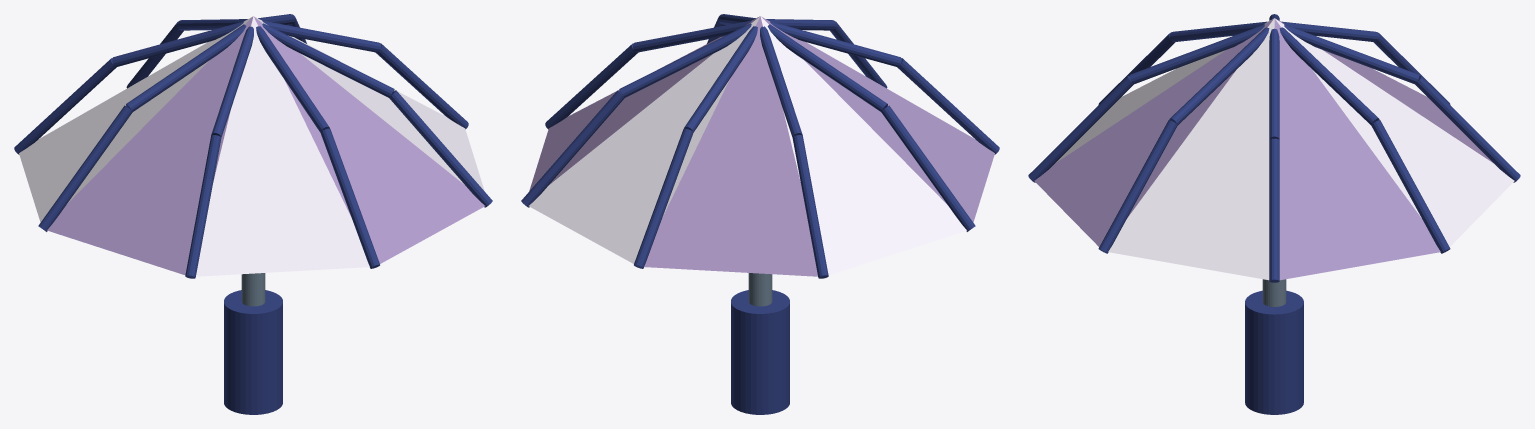
The model's file is foldumbrella.glb.
3 views of the same model, side by side, from view 1: azimuth 30°, elevation 25°; view 2: azimuth 150°, elevation 25°; view 3: azimuth 270°, elevation 25° (orthographic).
Parts seen in each view (by area): view 1: panel2, panel3, panel1, panel4, handle, panel0, rib21, rib41, rib31, rib11, rib10, rib40 (+9 smaller); view 2: panel5, panel4, panel6, panel3, handle, panel7, rib61, rib41, rib51, rib71, rib70, rib40 (+9 smaller); view 3: panel0, panel7, panel1, panel6, handle, panel2, panel5, rib11, rib71, rib01, rib20, rib60 (+10 smaller).
Boxes of the visible parts, x1,y1,x2,y2 form: panel2: [196, 16, 369, 276]; panel3: [47, 16, 253, 274]; panel1: [254, 17, 484, 263]; panel4: [19, 16, 252, 222]; handle: [224, 290, 282, 414]; panel0: [254, 16, 484, 190]; rib21: [320, 128, 379, 268]; rib41: [38, 105, 132, 231]; rib31: [185, 135, 221, 278]; rib11: [389, 90, 492, 207]; rib10: [262, 23, 394, 97]; rib40: [126, 24, 246, 111]; panel5: [644, 16, 817, 276]; panel4: [760, 16, 966, 274]; panel6: [529, 17, 759, 263]; panel3: [761, 16, 994, 222]; handle: [731, 290, 789, 414]; panel7: [529, 16, 759, 190]; rib61: [634, 128, 693, 268]; rib41: [881, 105, 975, 231]; rib51: [792, 135, 828, 278]; rib71: [521, 90, 624, 207]; rib70: [619, 23, 751, 97]; rib40: [767, 24, 887, 111]; panel0: [1108, 18, 1274, 280]; panel7: [1274, 19, 1440, 280]; panel1: [1034, 18, 1273, 246]; panel6: [1275, 18, 1514, 246]; handle: [1245, 290, 1303, 414]; panel2: [1055, 18, 1273, 163]; panel5: [1275, 18, 1493, 163]; rib11: [1098, 120, 1177, 253]; rib71: [1371, 120, 1450, 253]; rib01: [1269, 138, 1279, 282]; rib20: [1129, 24, 1264, 84]; rib60: [1284, 24, 1419, 84].
Size of the model in its own units: 1.67 by 1.44 by 1.67.
